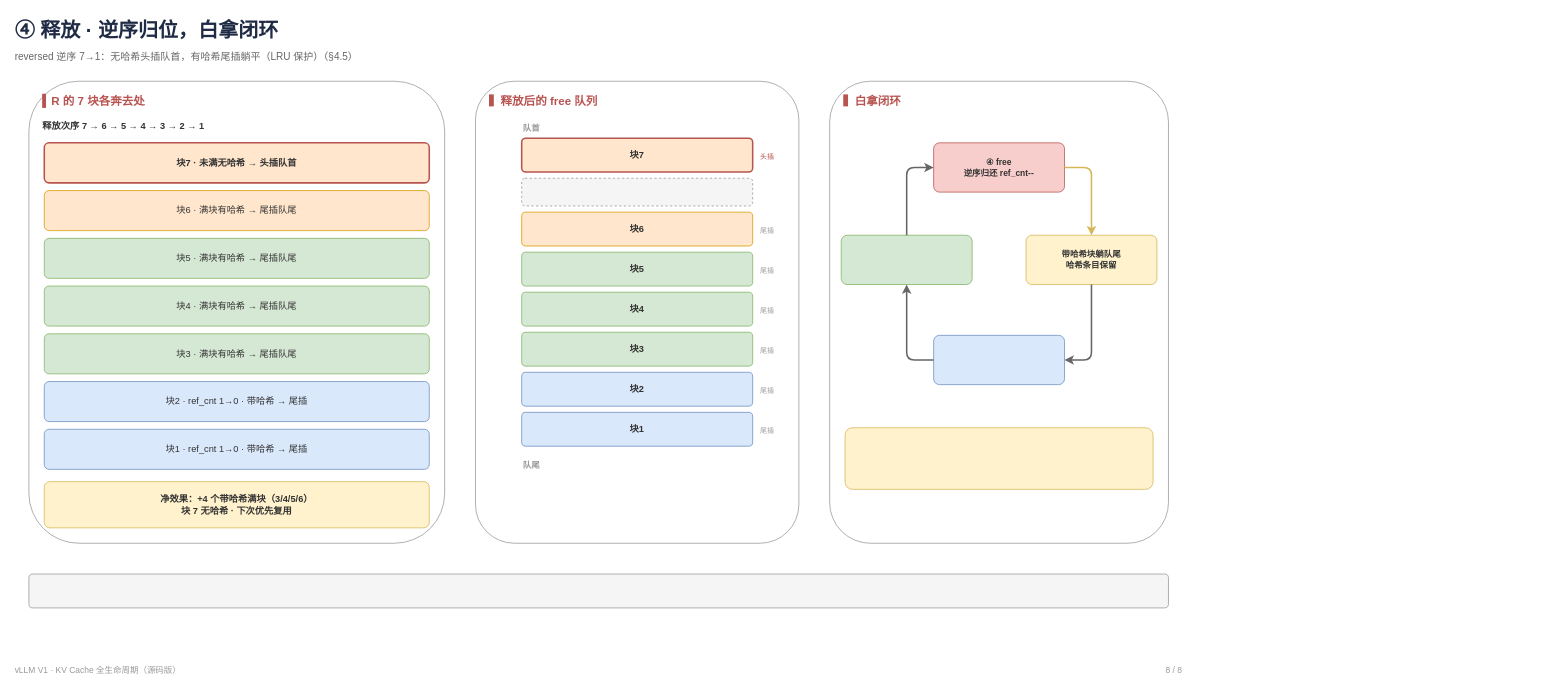
Some shapes in this 1548 by 691 pixel diagram are drawn without their labels. Here are the shapes that lost their labels. From the top down, the centre of each, then its label:
At point (637, 191): "⋯ 久未用，挤向队首 ⋯".
At point (906, 259): "② S2 touch ref_cnt++ 摘出开写".
At point (999, 360): "下一条同前缀 ① 查前缀命中".
At point (998, 458): "已算 KV 零成本复用 缓存越滚越厚".
At point (598, 590): "至此闭环：入队造哈希 → ①② 白拿 → ③ 续写 → ④ 释放 → 下一条继续白拿".
